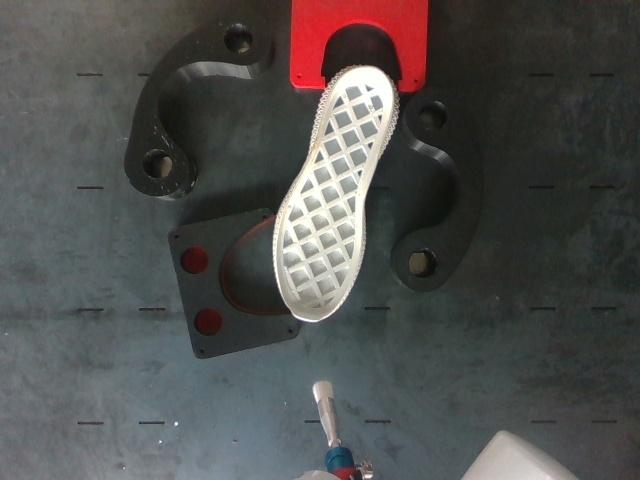shoes: (276, 67, 393, 320)
